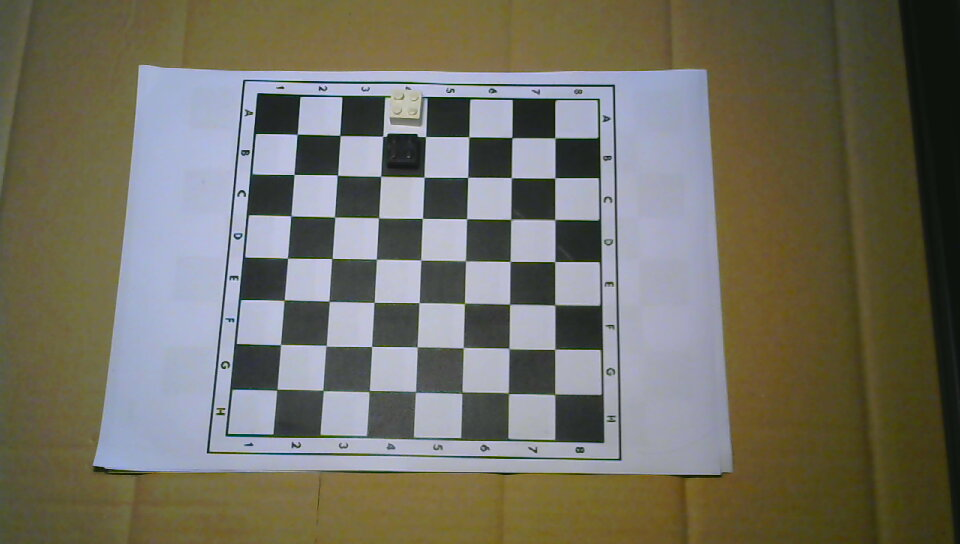bp: (384, 132, 422, 171)
wp: (387, 89, 425, 127)
